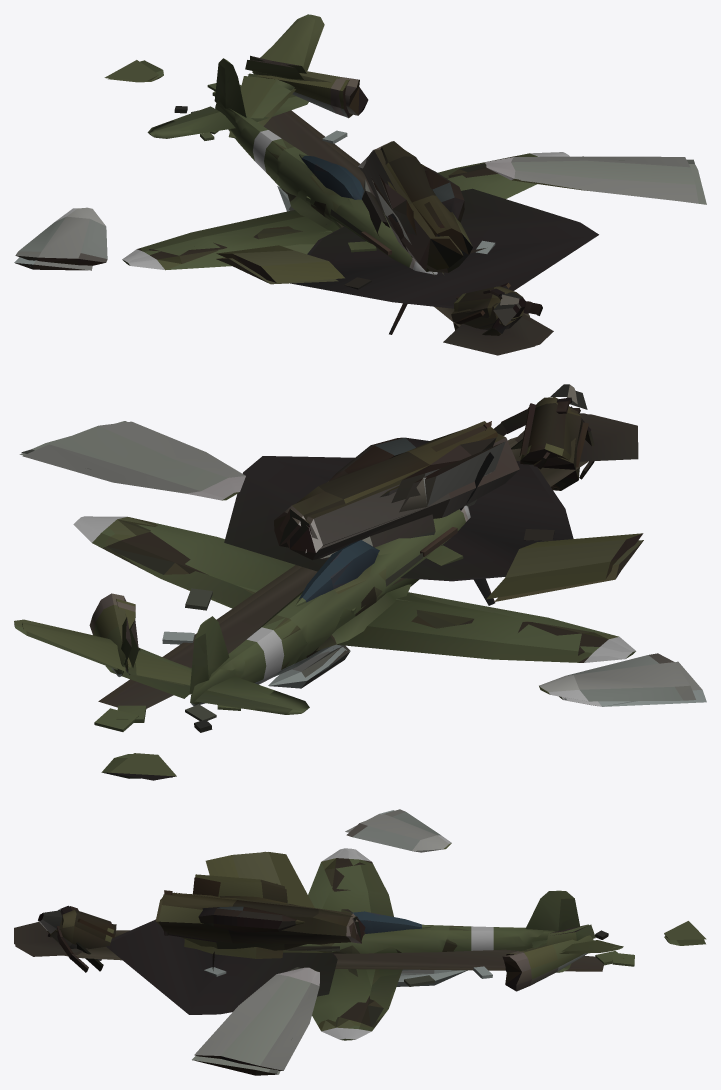
Rendered from plane_ww2_fighter_fractured.glb.
3 renders of one model, top to bottom at view 1: azimuth 30°, elevation 25°; view 2: azimuth 150°, elevation 25°; view 3: azimuth 270°, elevation 25°, orthographic. The views are drawn at different scales.
Visible parts, largest first — view 1: plane_ww2_fighter_RUIN_LOD0_mesh, plane_ww2_fighter_RUIN_LOD1_mesh, plane_ww2_fighter_DMG_mesh, plane_ww2_fighter_RUIN_LOD2_mesh, plane_ww2_fighter_FRAC_19_mesh, plane_ww2_fighter_FRAC_20_mesh, plane_ww2_fighter_FRAC_11_mesh, plane_ww2_fighter_FRAC_06_mesh, plane_ww2_fighter_FRAC_07_mesh, plane_ww2_fighter_FRAC_13_mesh, plane_ww2_fighter_FRAC_08_mesh, plane_ww2_fighter_RUIN_LOD0_loose_prop_mesh (+4 smaller); view 2: plane_ww2_fighter_RUIN_LOD0_mesh, plane_ww2_fighter_RUIN_LOD1_mesh, plane_ww2_fighter_DMG_mesh, plane_ww2_fighter_RUIN_LOD2_mesh, plane_ww2_fighter_FRAC_06_mesh, plane_ww2_fighter_FRAC_07_mesh, plane_ww2_fighter_FRAC_20_mesh, plane_ww2_fighter_FRAC_19_mesh, plane_ww2_fighter_FRAC_18_mesh, plane_ww2_fighter_FRAC_11_mesh, plane_ww2_fighter_FRAC_08_mesh, plane_ww2_fighter_FRAC_15_mesh (+10 smaller); view 3: plane_ww2_fighter_RUIN_LOD0_mesh, plane_ww2_fighter_DMG_mesh, plane_ww2_fighter_RUIN_LOD2_mesh, plane_ww2_fighter_RUIN_LOD1_mesh, plane_ww2_fighter_FRAC_20_mesh, plane_ww2_fighter_FRAC_10_mesh, plane_ww2_fighter_FRAC_07_mesh, plane_ww2_fighter_FRAC_11_mesh, plane_ww2_fighter_FRAC_15_mesh, plane_ww2_fighter_FRAC_08_mesh, plane_ww2_fighter_FRAC_18_mesh, plane_ww2_fighter_FRAC_04_mesh (+2 smaller).
Boxes of the visible parts, x1,y1,x2,y2 form: plane_ww2_fighter_RUIN_LOD0_mesh: (15, 14, 698, 345); plane_ww2_fighter_RUIN_LOD1_mesh: (14, 16, 706, 330); plane_ww2_fighter_DMG_mesh: (122, 58, 569, 269); plane_ww2_fighter_RUIN_LOD2_mesh: (30, 69, 694, 355); plane_ww2_fighter_FRAC_19_mesh: (147, 80, 241, 145); plane_ww2_fighter_FRAC_20_mesh: (277, 147, 320, 196); plane_ww2_fighter_FRAC_11_mesh: (305, 159, 363, 225); plane_ww2_fighter_FRAC_06_mesh: (239, 189, 314, 228); plane_ww2_fighter_FRAC_07_mesh: (449, 174, 537, 198); plane_ww2_fighter_FRAC_13_mesh: (252, 224, 326, 247); plane_ww2_fighter_FRAC_08_mesh: (240, 121, 282, 187); plane_ww2_fighter_RUIN_LOD0_loose_prop_mesh: (482, 288, 542, 335); plane_ww2_fighter_RUIN_LOD0_mesh: (14, 397, 695, 778); plane_ww2_fighter_RUIN_LOD1_mesh: (19, 408, 706, 780); plane_ww2_fighter_DMG_mesh: (73, 511, 635, 705); plane_ww2_fighter_RUIN_LOD2_mesh: (21, 414, 638, 708); plane_ww2_fighter_FRAC_06_mesh: (333, 608, 436, 652); plane_ww2_fighter_FRAC_07_mesh: (150, 524, 267, 581); plane_ww2_fighter_FRAC_20_mesh: (270, 571, 344, 645); plane_ww2_fighter_FRAC_19_mesh: (181, 664, 309, 714); plane_ww2_fighter_FRAC_18_mesh: (424, 622, 509, 659); plane_ww2_fighter_FRAC_11_mesh: (315, 540, 387, 616); plane_ww2_fighter_FRAC_08_mesh: (232, 616, 306, 685); plane_ww2_fighter_FRAC_15_mesh: (493, 633, 581, 662); plane_ww2_fighter_RUIN_LOD0_mesh: (15, 809, 705, 1070); plane_ww2_fighter_DMG_mesh: (283, 848, 579, 1039); plane_ww2_fighter_RUIN_LOD2_mesh: (14, 883, 602, 1075); plane_ww2_fighter_RUIN_LOD1_mesh: (47, 810, 706, 1075); plane_ww2_fighter_FRAC_20_mesh: (391, 917, 449, 952); plane_ww2_fighter_FRAC_10_mesh: (515, 891, 577, 942); plane_ww2_fighter_FRAC_07_mesh: (312, 985, 372, 1023); plane_ww2_fighter_FRAC_11_mesh: (332, 912, 392, 953); plane_ww2_fighter_FRAC_15_mesh: (336, 864, 388, 893); plane_ww2_fighter_FRAC_08_mesh: (447, 926, 524, 970); plane_ww2_fighter_FRAC_18_mesh: (346, 890, 393, 916); plane_ww2_fighter_FRAC_04_mesh: (349, 946, 402, 994).
Bounding box in the file's own units: 15.32 × 3.04 × 16.91.
